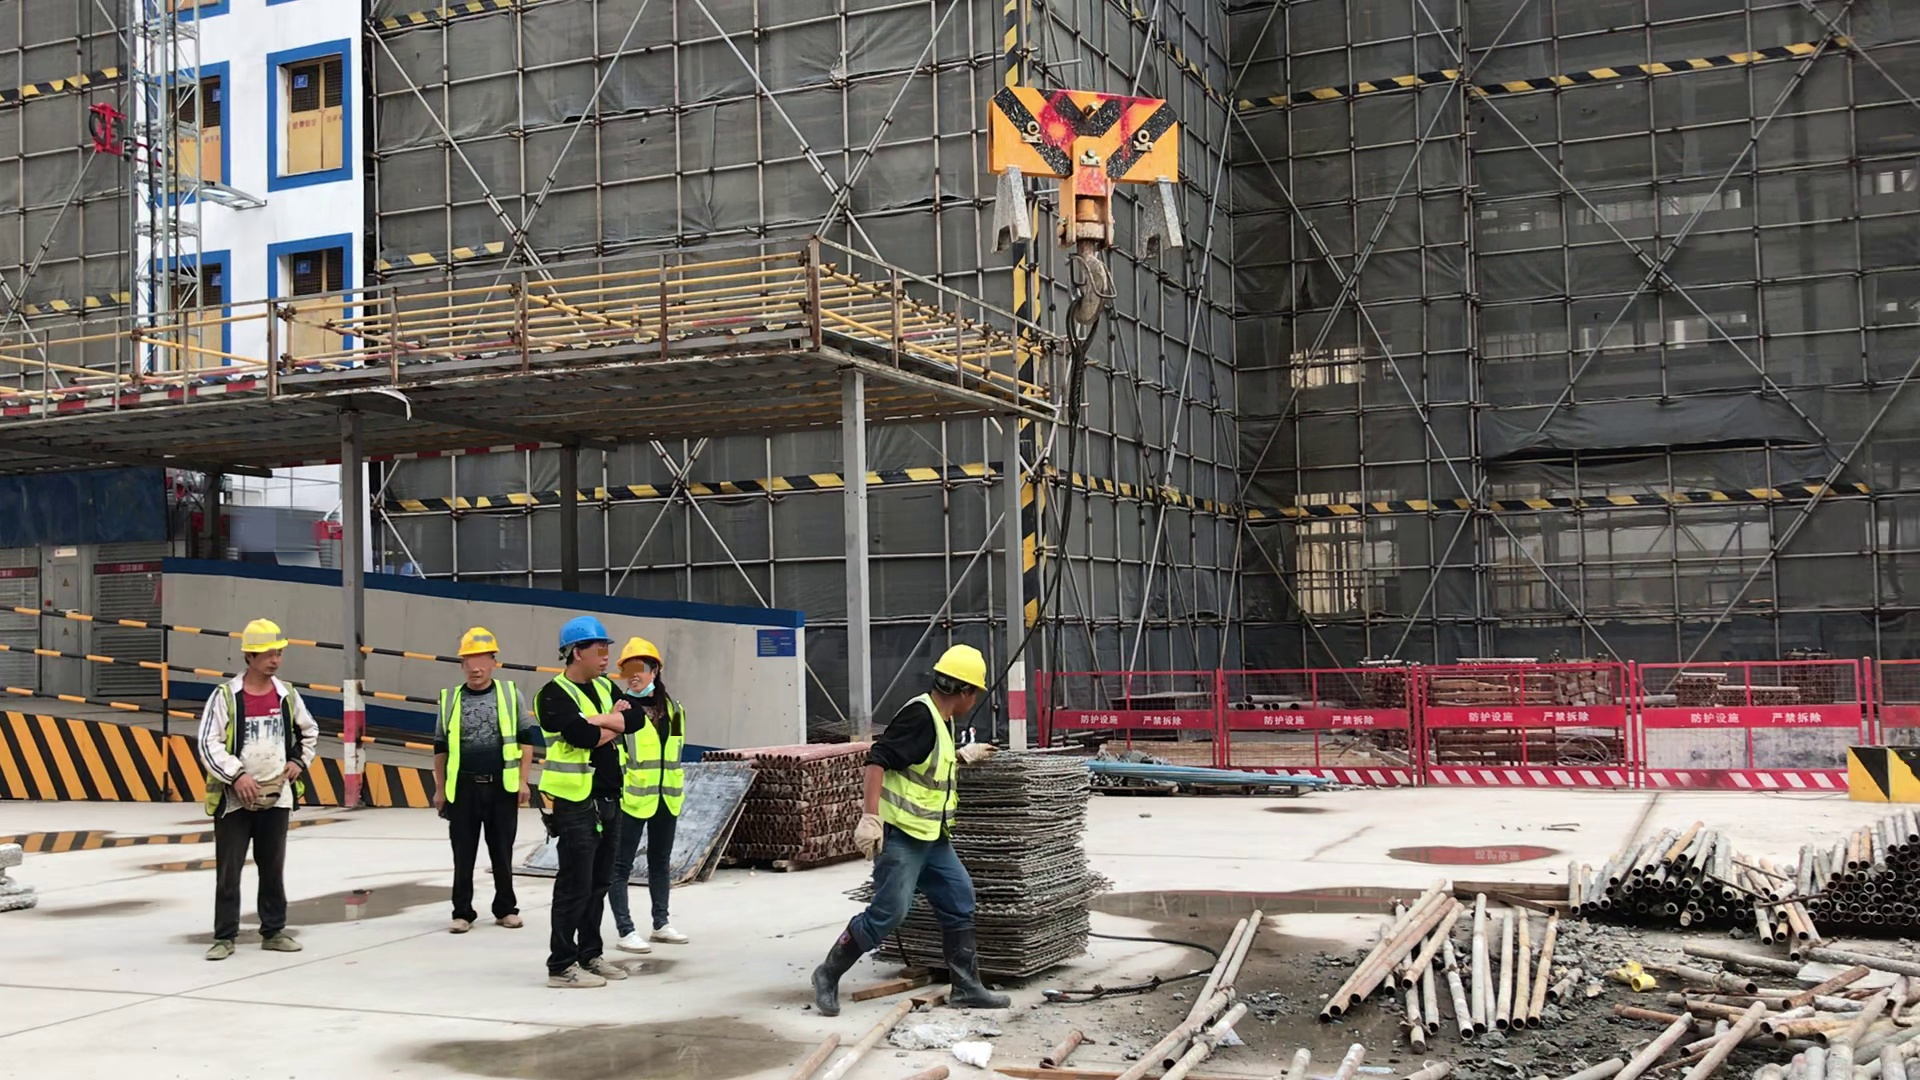fence: (29, 585, 717, 814), (1028, 651, 1910, 810)
helmet: (926, 642, 996, 698), (231, 613, 290, 661), (551, 612, 615, 655), (454, 616, 499, 659), (617, 640, 664, 668)
hook: (967, 73, 1202, 280)
person: (807, 634, 1013, 1025), (194, 613, 310, 966), (431, 620, 542, 945), (540, 606, 629, 994), (617, 630, 697, 968)
scaffold: (1317, 866, 1559, 1045), (1558, 818, 1823, 958), (713, 737, 871, 878), (1806, 778, 1920, 941)
vest: (211, 673, 304, 818), (882, 690, 963, 844), (534, 671, 620, 805), (442, 679, 522, 807), (627, 698, 682, 823)
